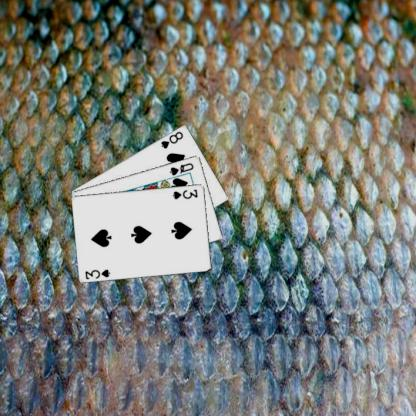3S: (170, 186, 199, 200), (82, 267, 112, 280)
8S: (158, 129, 185, 150)
QS: (167, 160, 195, 176)
